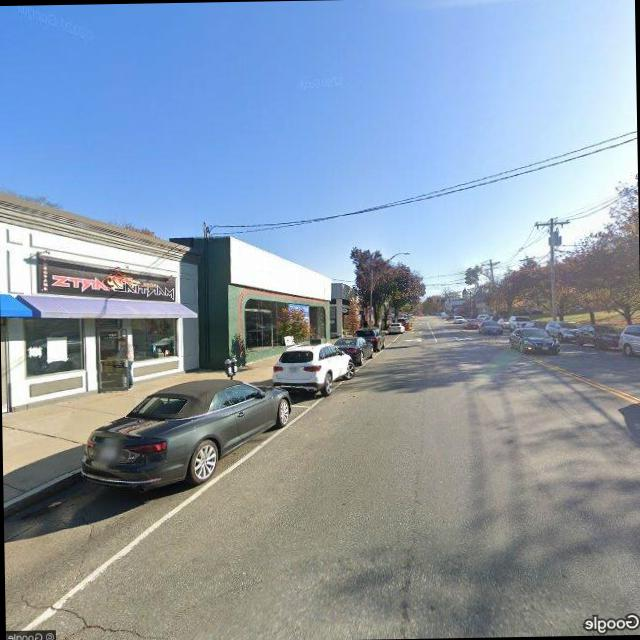crack: (15, 586, 178, 640)
